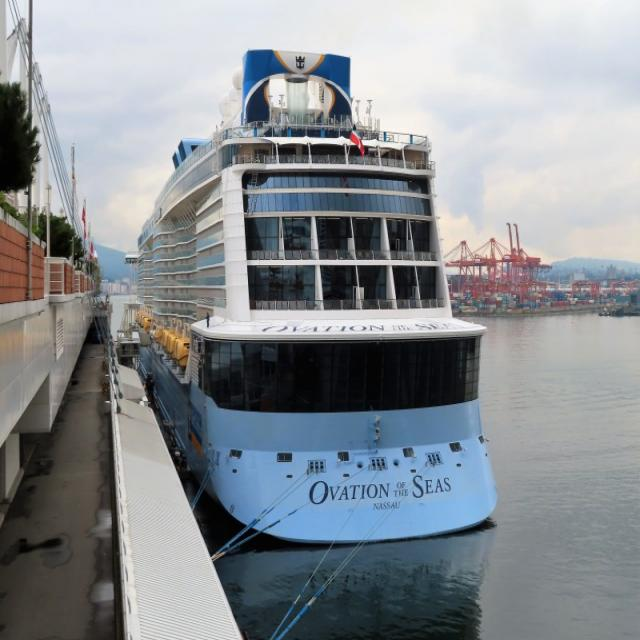cruises: (122, 42, 504, 555)
